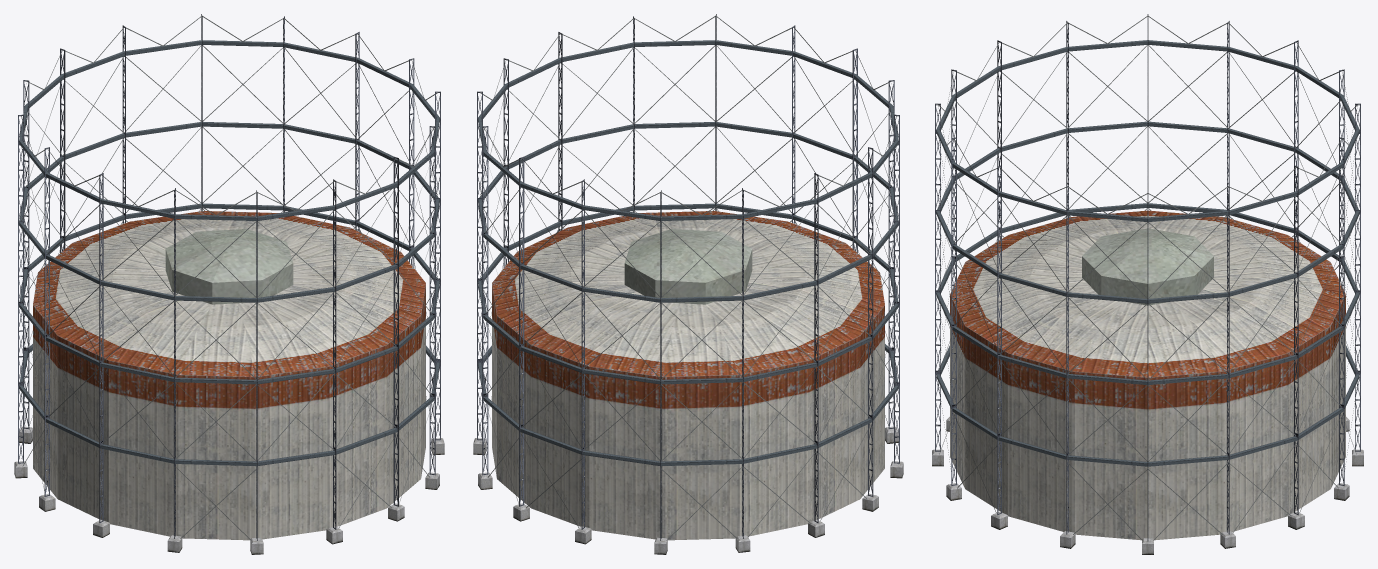
Rendered from GasStorage02a.obj.
3 views of the same model, side by side, from view 1: azimuth 30°, elevation 25°; view 2: azimuth 150°, elevation 25°; view 3: azimuth 270°, elevation 25° (orthographic).
Parts seen in each view (by area): view 1: Silo01, Foundation01; view 2: Silo01, Foundation01; view 3: Silo01, Foundation01.
Part boxes in pixels (x1,y1,x2,y2): Silo01: (33, 211, 425, 540); Foundation01: (14, 14, 444, 554); Silo01: (492, 211, 884, 540); Foundation01: (473, 14, 903, 554); Silo01: (950, 210, 1345, 540); Foundation01: (932, 14, 1363, 554).
Bounding box in the file's own units: 43.2 × 39.73 × 43.2.
